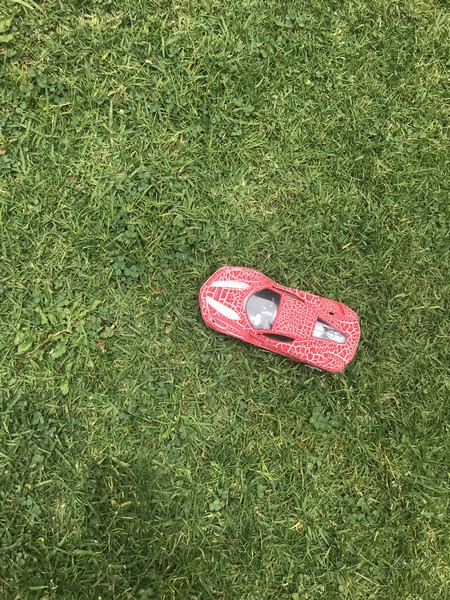RC: (195, 266, 363, 376)
